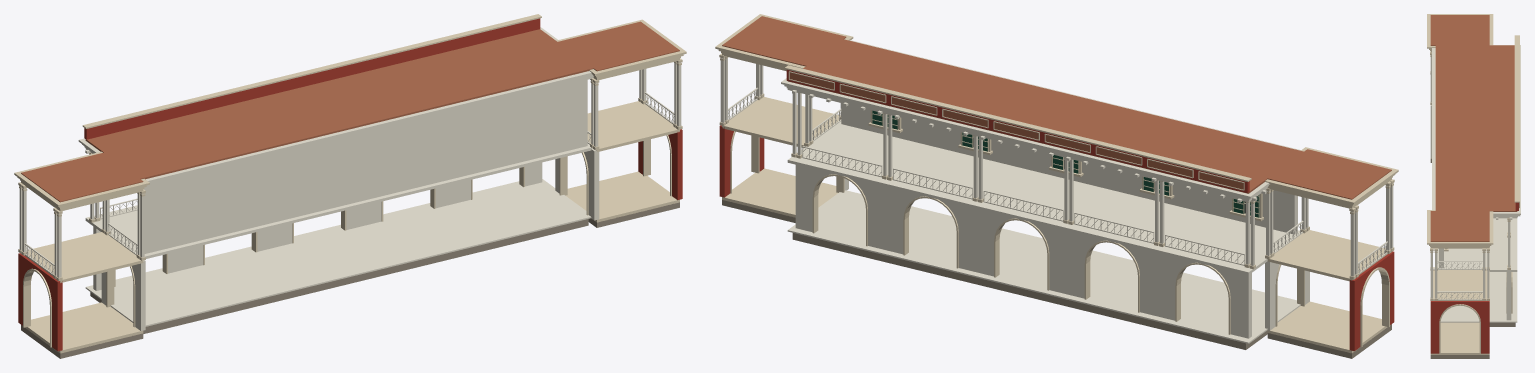
File: KOL_T1_JORASANKO__03_Thakur_Dalan_Link.fbx
3 renders of one model, left to right at view 1: azimuth 30°, elevation 25°; view 2: azimuth 150°, elevation 25°; view 3: azimuth 270°, elevation 25°, orthographic. The views are drawn at different scales.
Visible parts, largest first — view 1: KOL_T1_JORASANKO__03_Thakur_Dalan_Link__KOL_T1_EstateWhite, KOL_T1_JORASANKO__03_Thakur_Dalan_Link__KOL_T1_EstateBrickLi, KOL_T1_JORASANKO__03_Thakur_Dalan_Link__KOL_T1_EstateIvory, KOL_T1_JORASANKO__03_Thakur_Dalan_Link__KOL_T1_EstateRed, KOL_T1_JORASANKO__03_Thakur_Dalan_Link__KOL_T1_EstateStone, KOL_T1_JORASANKO__03_Thakur_Dalan_Link__KOL_T1_EstateWhite.0; view 2: KOL_T1_JORASANKO__03_Thakur_Dalan_Link__KOL_T1_EstateWhite, KOL_T1_JORASANKO__03_Thakur_Dalan_Link__KOL_T1_EstateBrickLi, KOL_T1_JORASANKO__03_Thakur_Dalan_Link__KOL_T1_EstateIvory, KOL_T1_JORASANKO__03_Thakur_Dalan_Link__KOL_T1_EstateRed, KOL_T1_JORASANKO__03_Thakur_Dalan_Link__KOL_T1_EstateStone, KOL_T1_JORASANKO__03_Thakur_Dalan_Link__KOL_T1_EstateWhite.0, KOL_T1_JORASANKO__03_Thakur_Dalan_Link__KOL_T1_EstateGreen; view 3: KOL_T1_JORASANKO__03_Thakur_Dalan_Link__KOL_T1_EstateBrickLi, KOL_T1_JORASANKO__03_Thakur_Dalan_Link__KOL_T1_EstateIvory, KOL_T1_JORASANKO__03_Thakur_Dalan_Link__KOL_T1_EstateWhite, KOL_T1_JORASANKO__03_Thakur_Dalan_Link__KOL_T1_EstateRed, KOL_T1_JORASANKO__03_Thakur_Dalan_Link__KOL_T1_EstateWhite.0, KOL_T1_JORASANKO__03_Thakur_Dalan_Link__KOL_T1_EstateStone.
Part boxes in pixels (x1,y1,x2,y2): KOL_T1_JORASANKO__03_Thakur_Dalan_Link__KOL_T1_EstateWhite: (19,27,593,326); KOL_T1_JORASANKO__03_Thakur_Dalan_Link__KOL_T1_EstateBrickLi: (21,21,679,202); KOL_T1_JORASANKO__03_Thakur_Dalan_Link__KOL_T1_EstateIvory: (14,14,686,353); KOL_T1_JORASANKO__03_Thakur_Dalan_Link__KOL_T1_EstateRed: (18,18,682,351); KOL_T1_JORASANKO__03_Thakur_Dalan_Link__KOL_T1_EstateStone: (21,202,679,358); KOL_T1_JORASANKO__03_Thakur_Dalan_Link__KOL_T1_EstateWhite.0: (101,62,681,330); KOL_T1_JORASANKO__03_Thakur_Dalan_Link__KOL_T1_EstateWhite: (781,40,1393,343); KOL_T1_JORASANKO__03_Thakur_Dalan_Link__KOL_T1_EstateBrickLi: (722,16,1391,199); KOL_T1_JORASANKO__03_Thakur_Dalan_Link__KOL_T1_EstateIvory: (715,14,1398,353); KOL_T1_JORASANKO__03_Thakur_Dalan_Link__KOL_T1_EstateRed: (719,69,1394,351); KOL_T1_JORASANKO__03_Thakur_Dalan_Link__KOL_T1_EstateStone: (722,200,1391,358); KOL_T1_JORASANKO__03_Thakur_Dalan_Link__KOL_T1_EstateWhite.0: (720,57,1309,330); KOL_T1_JORASANKO__03_Thakur_Dalan_Link__KOL_T1_EstateGreen: (872,110,1259,217); KOL_T1_JORASANKO__03_Thakur_Dalan_Link__KOL_T1_EstateBrickLi: (1430,15,1519,241); KOL_T1_JORASANKO__03_Thakur_Dalan_Link__KOL_T1_EstateIvory: (1427,14,1519,354); KOL_T1_JORASANKO__03_Thakur_Dalan_Link__KOL_T1_EstateWhite: (1432,45,1520,322); KOL_T1_JORASANKO__03_Thakur_Dalan_Link__KOL_T1_EstateRed: (1430,202,1518,353); KOL_T1_JORASANKO__03_Thakur_Dalan_Link__KOL_T1_EstateWhite.0: (1430,55,1489,300); KOL_T1_JORASANKO__03_Thakur_Dalan_Link__KOL_T1_EstateStone: (1430,159,1515,358).
Size of the model in its own units: 166 by 43.03 by 28.76.
